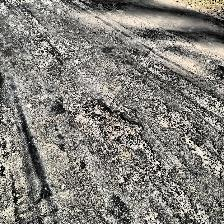pothole: (90, 104, 144, 140)
